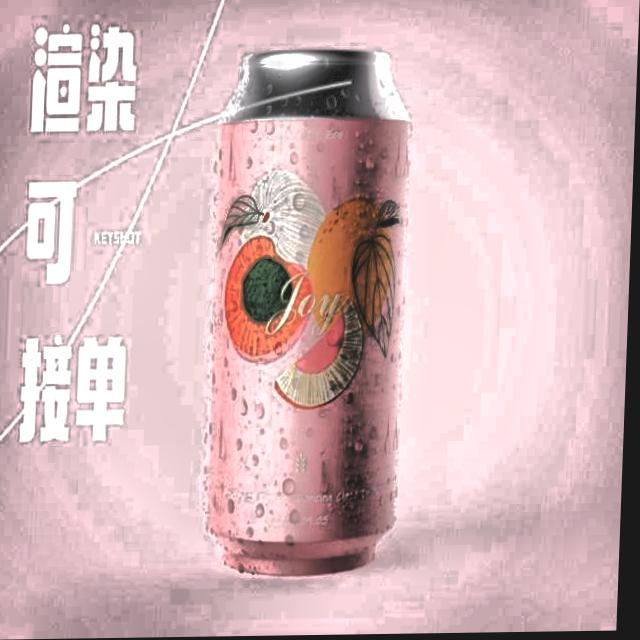can: (200, 36, 421, 587)
